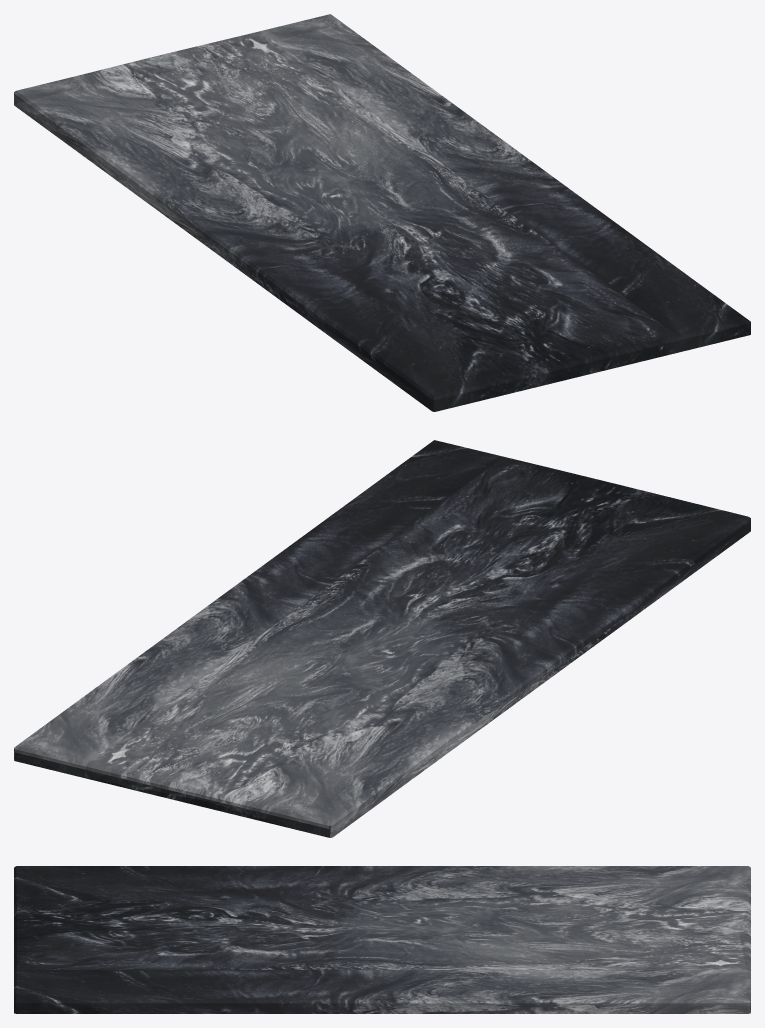
File: tabletop-epoxy-chamfered-source.glb
3 views of the same model, one above another, from view 1: azimuth 30°, elevation 25°; view 2: azimuth 150°, elevation 25°; view 3: azimuth 270°, elevation 25° (orthographic). The views are drawn at different scales.
Visible parts, largest first — view 1: tabletop_epoxy_chamfered_source; view 2: tabletop_epoxy_chamfered_source; view 3: tabletop_epoxy_chamfered_source.
Part boxes in pixels (x1=…): tabletop_epoxy_chamfered_source: x1=14, y1=14, x2=750, y2=411; tabletop_epoxy_chamfered_source: x1=14, y1=440, x2=750, y2=837; tabletop_epoxy_chamfered_source: x1=14, y1=866, x2=750, y2=1013.
Size of the model in its own units: 1.07 by 0.0483 by 2.44.
Materials: 1 (1 with a texture image).
